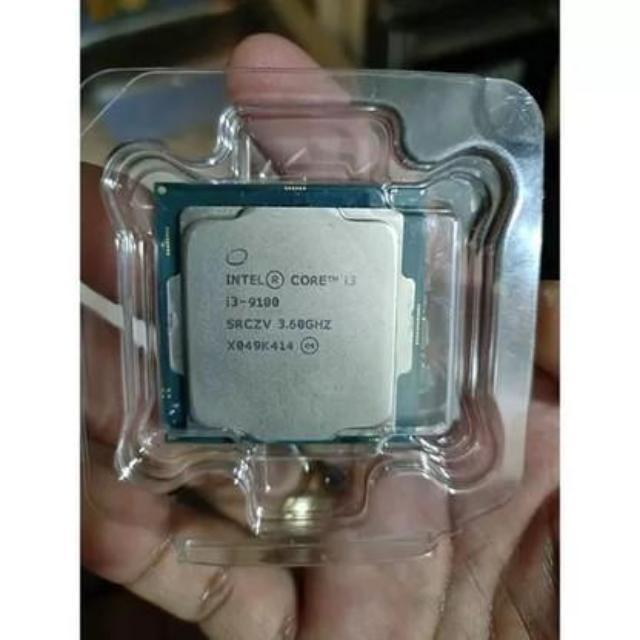CPU: (154, 186, 406, 440)
